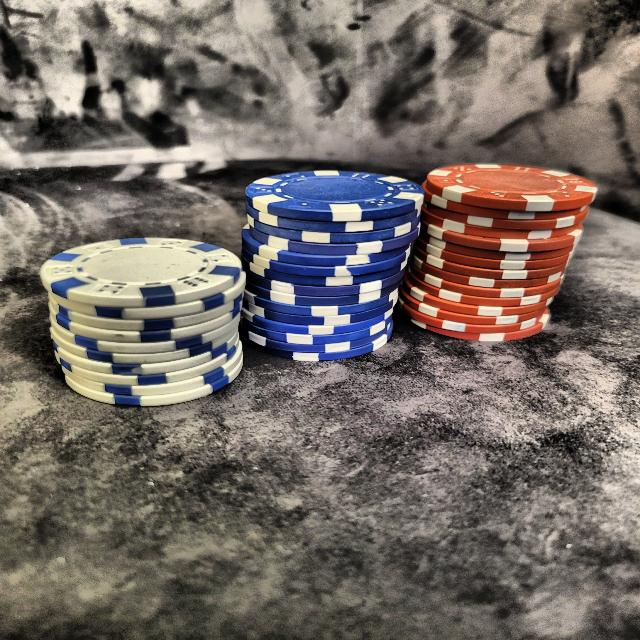Chip: (34, 209, 251, 422), (235, 149, 423, 381), (401, 136, 600, 352)
